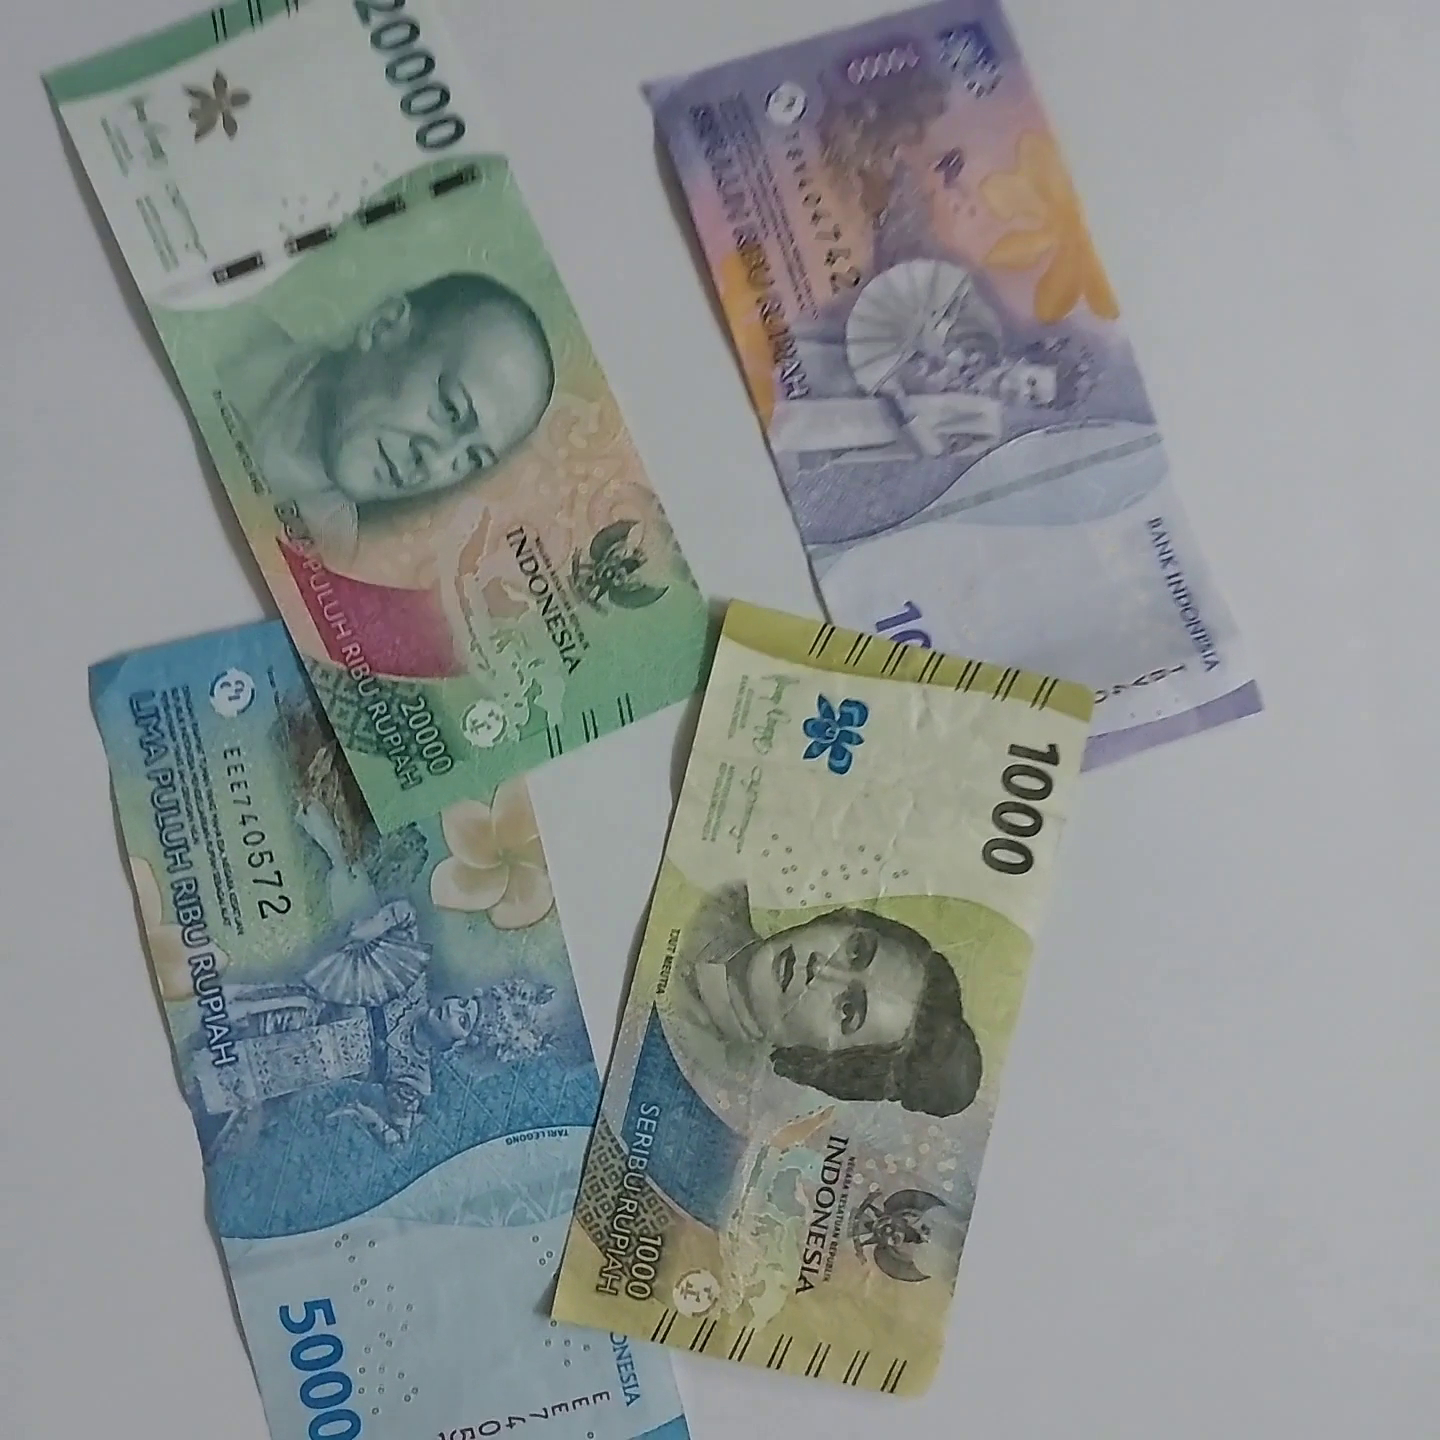10k: (634, 0, 1315, 762)
1k: (715, 600, 1093, 1362)
20k: (16, 15, 765, 832)
50k: (62, 555, 695, 1440)
